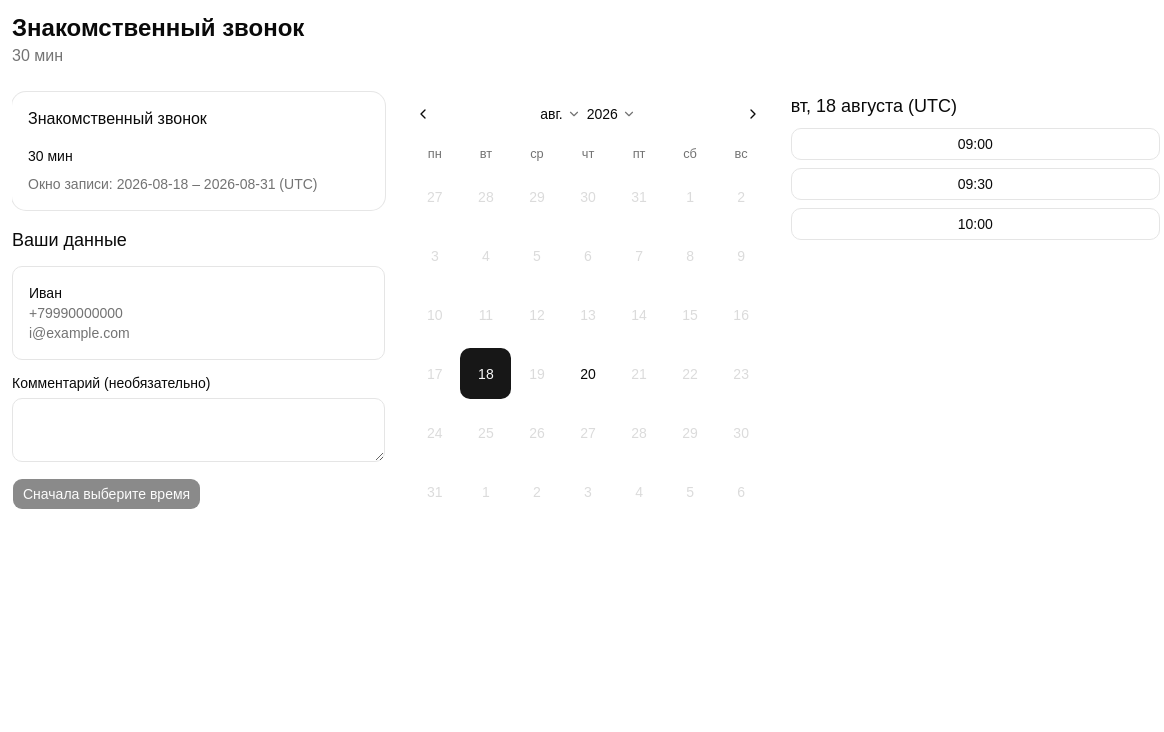
Test: BookPage › показывает слоты выбранного дня и блокирует дни без слотов
Expected: the button "09:00" is shown, [791,128,1160,160]
Expected: the button "19" is disabled, [511,348,562,399]
# переключаемся на другой доступный день в календаре
Click the button "20" at (588,374), box [562,348,614,399]
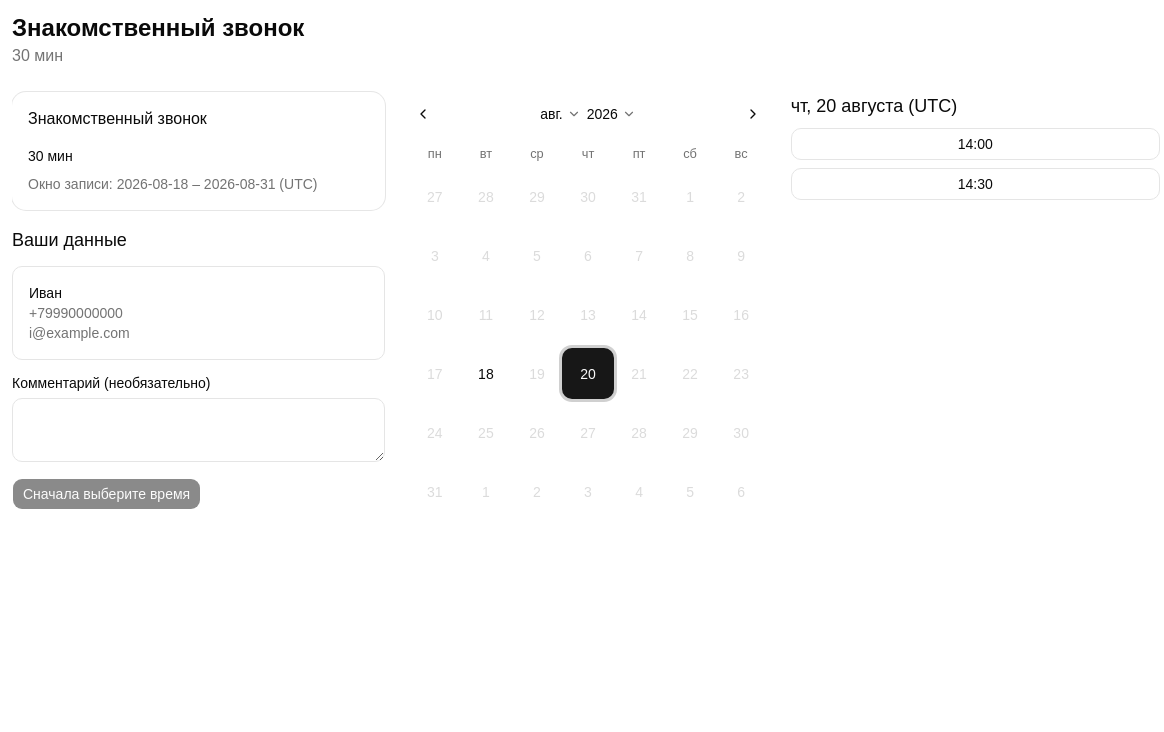
Now the button "14:00" is shown, box [791,128,1160,160]
Now the button "09:00" is gone
